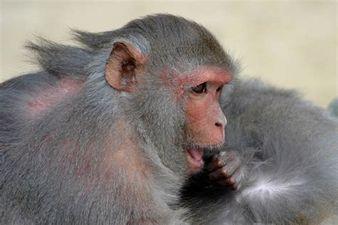monkey: (4, 14, 283, 193)
